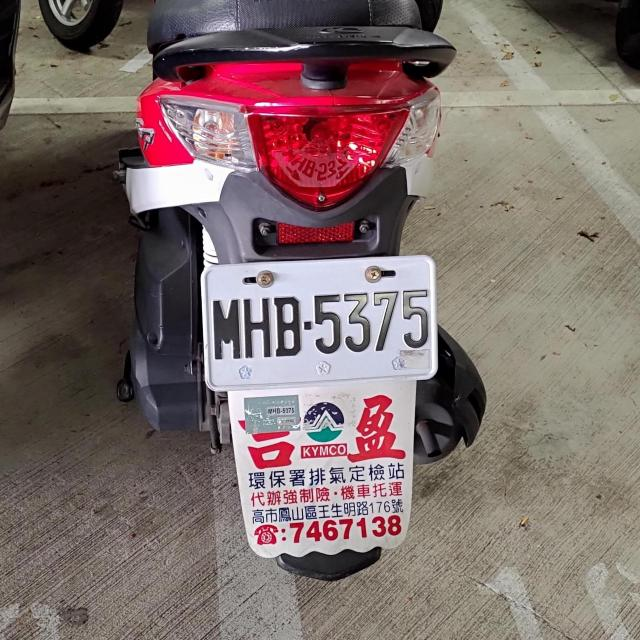W: (199, 254, 439, 389)
